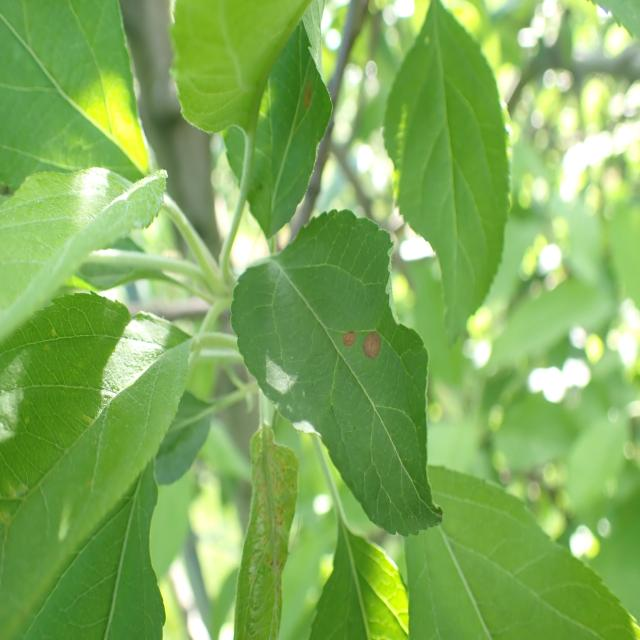Black Rot: (357, 318, 386, 380), (334, 308, 358, 376), (296, 70, 319, 131)
